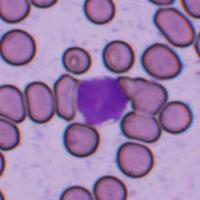L: (75, 75, 128, 127)
